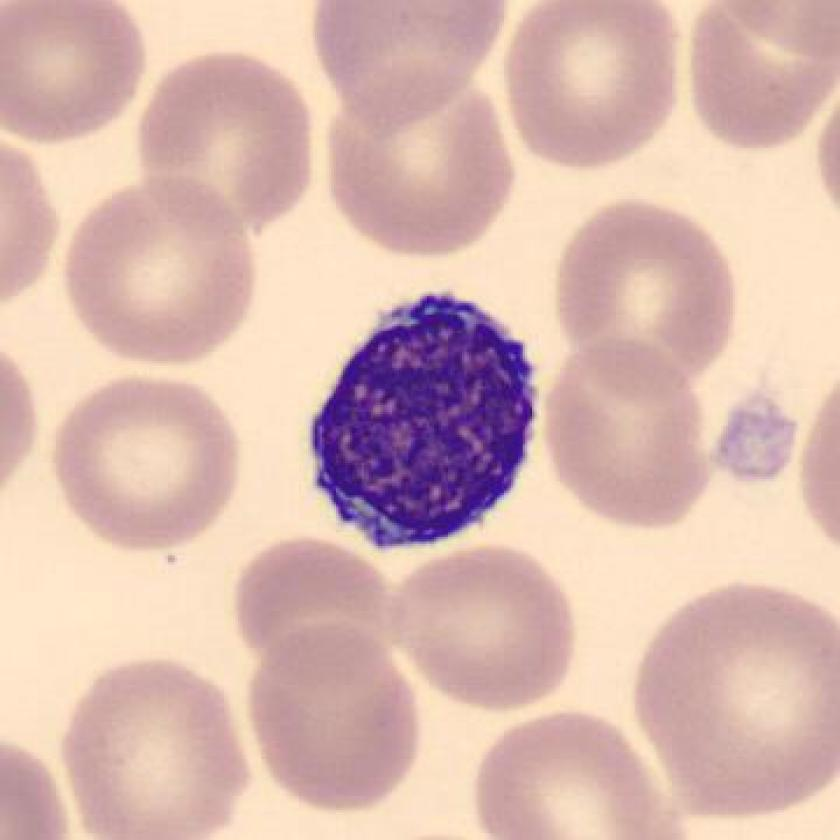lymphocyte: (300, 281, 561, 575)
